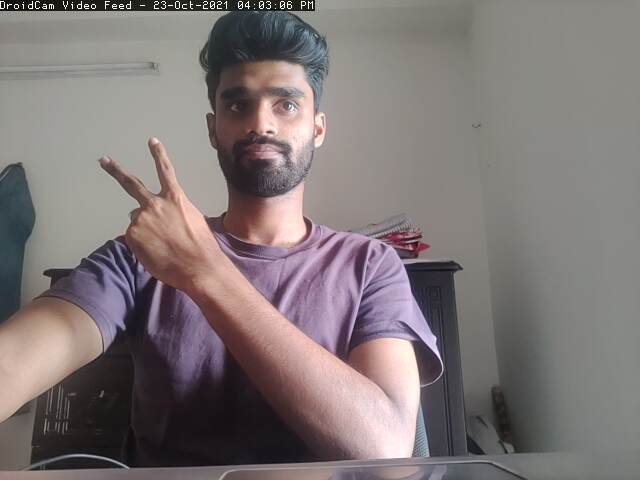Victory: (100, 135, 208, 278)
